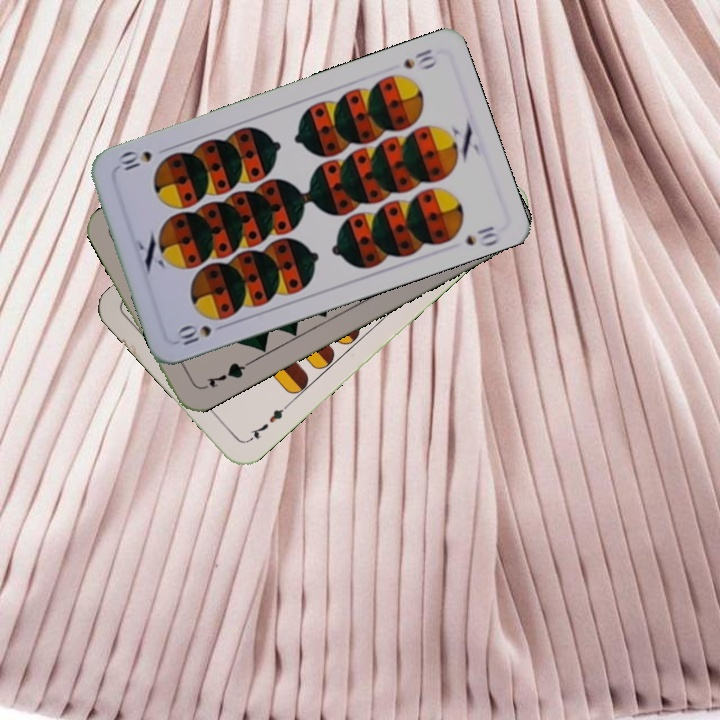E7: (243, 400, 291, 445)
G7: (197, 358, 252, 392)
S10: (173, 319, 230, 351), (399, 45, 440, 72)
